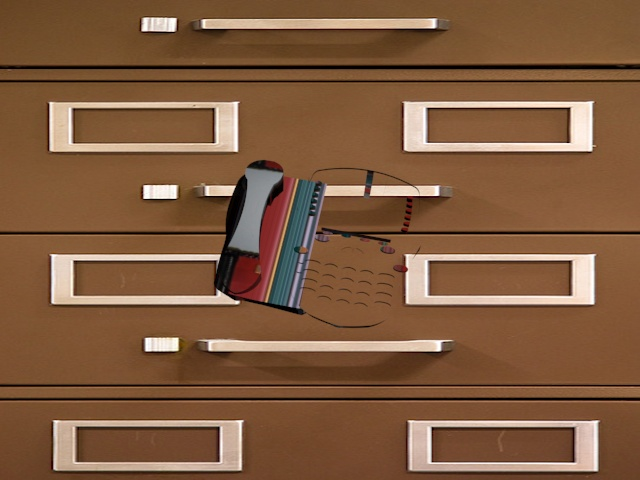phone: (209, 153, 424, 336)
